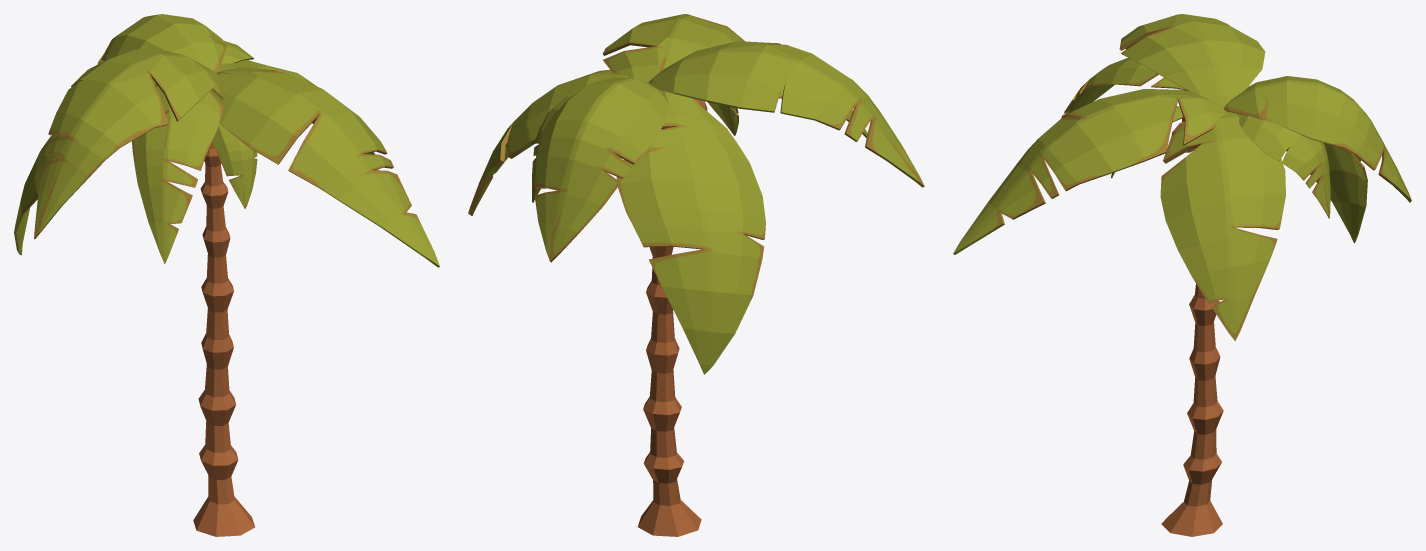
Rendered from PalmTree02.fbx.
The picture shows the model from 3 angles, left to right: view 1: azimuth 30°, elevation 25°; view 2: azimuth 150°, elevation 25°; view 3: azimuth 270°, elevation 25°; orthographic projection. The views are drawn at different scales.
Visible parts, largest first — view 1: pPlane48; view 2: pPlane48; view 3: pPlane48.
Boxes of the visible parts, x1,y1,x2,y2 form: pPlane48: (14,14,439,536); pPlane48: (468,14,924,536); pPlane48: (953,14,1411,536).
Size of the model in its own units: 4.93 by 5.77 by 5.22.
Materials: 1 (1 with a texture image).
